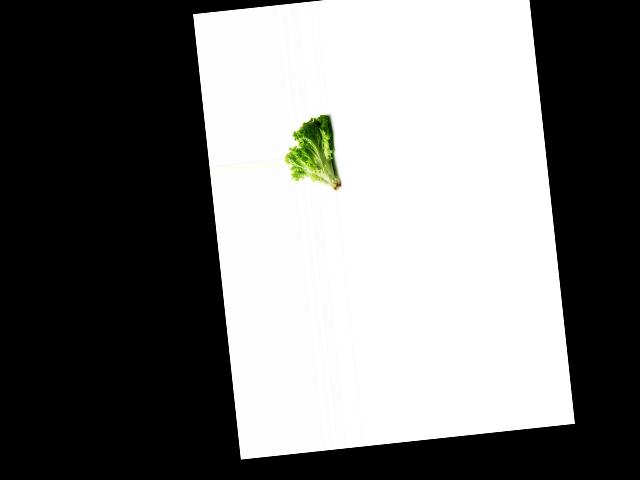lettuce: (280, 114, 343, 197)
